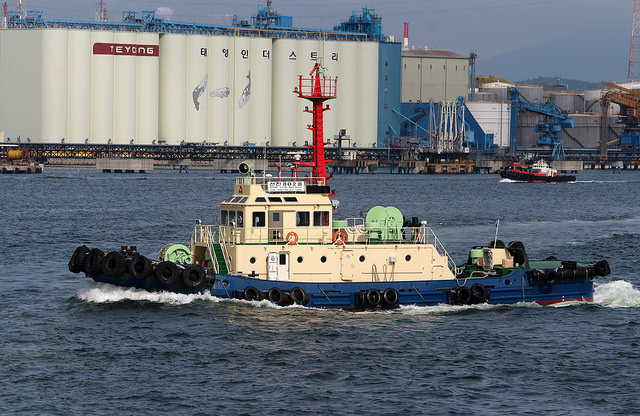tug_boat: (68, 152, 619, 319), (497, 148, 578, 188)
